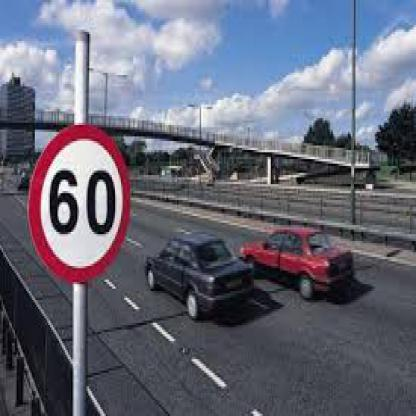Speed Limit 60: (34, 127, 128, 278)
